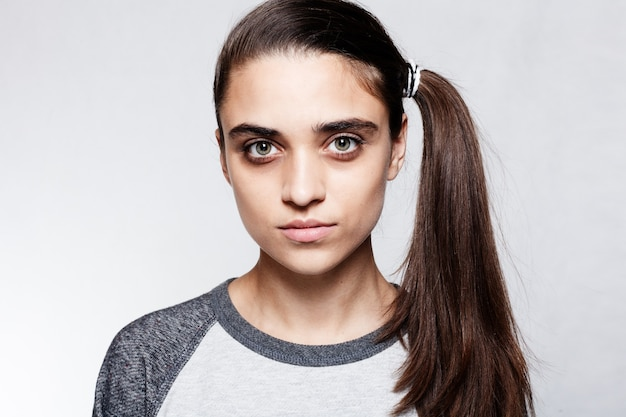teen: (212, 4, 451, 308)
